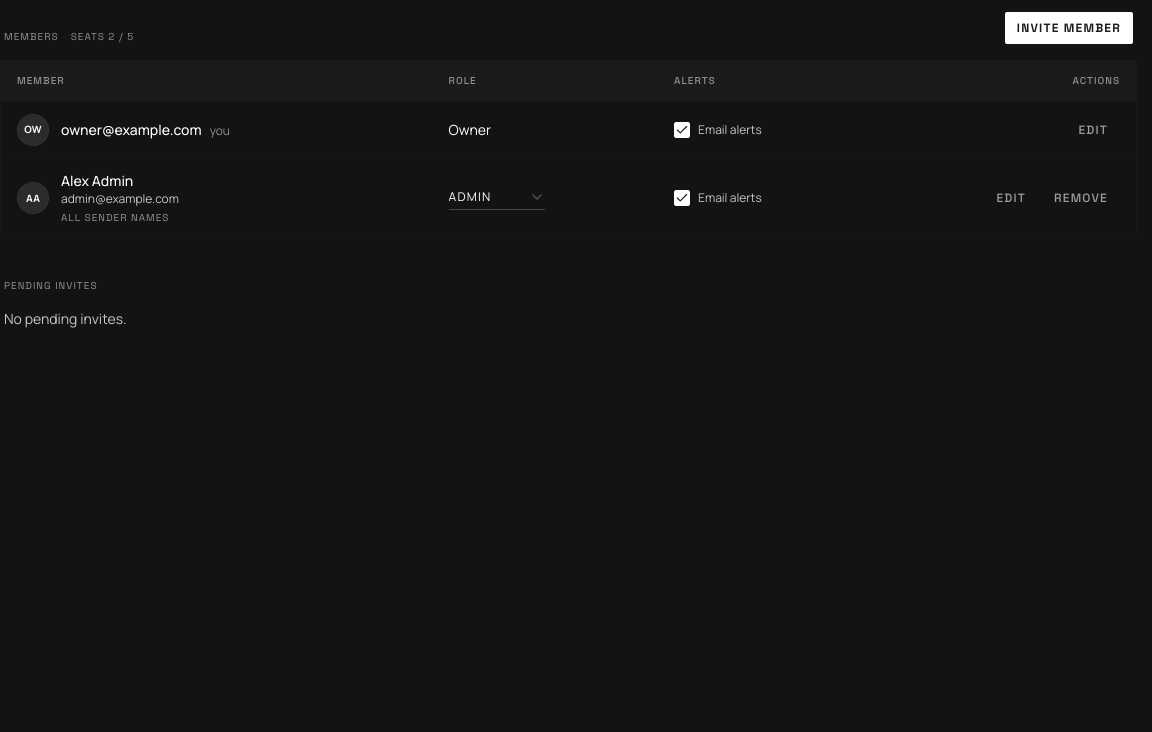
TeamPanel › shows a note instead of allow-list when role allows all sender names
This screenshot has width=1152, height=732.
Click the button "Edit" in the row of "AA": [1011, 198] box x1=984 y1=182 x2=1038 y2=214
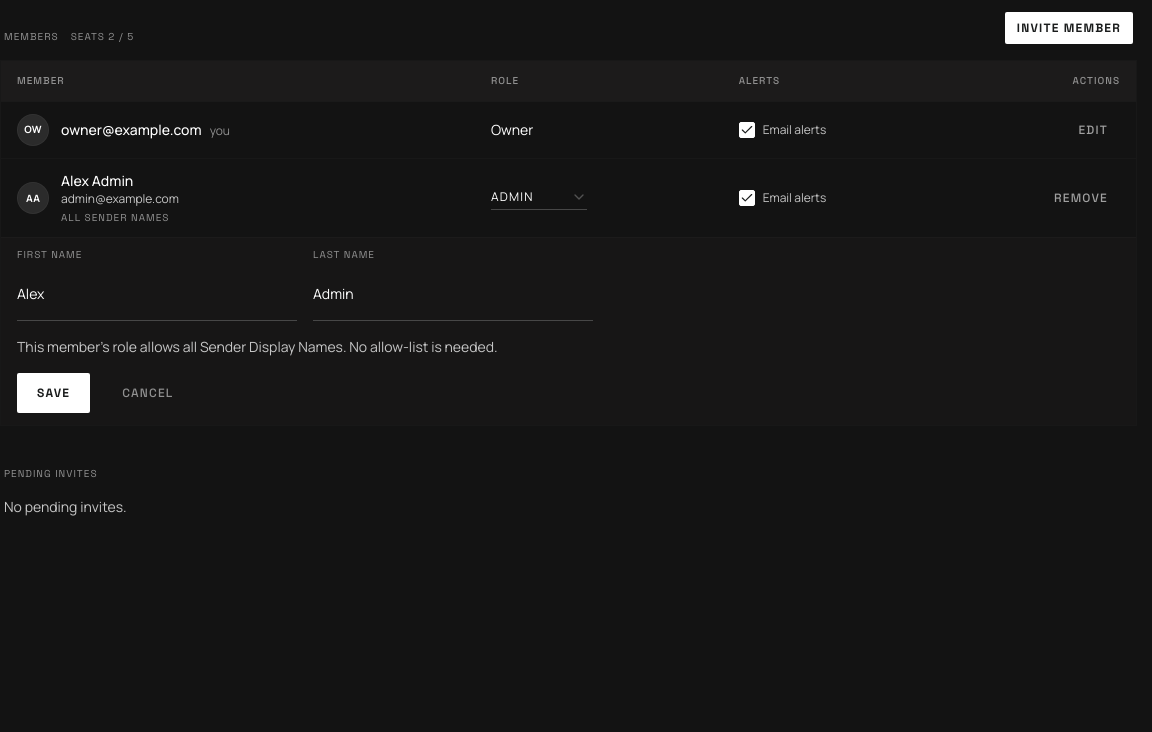
Expected: the text "allows all Sender Display Names" is shown, x1=17 y1=337 x2=498 y2=356
